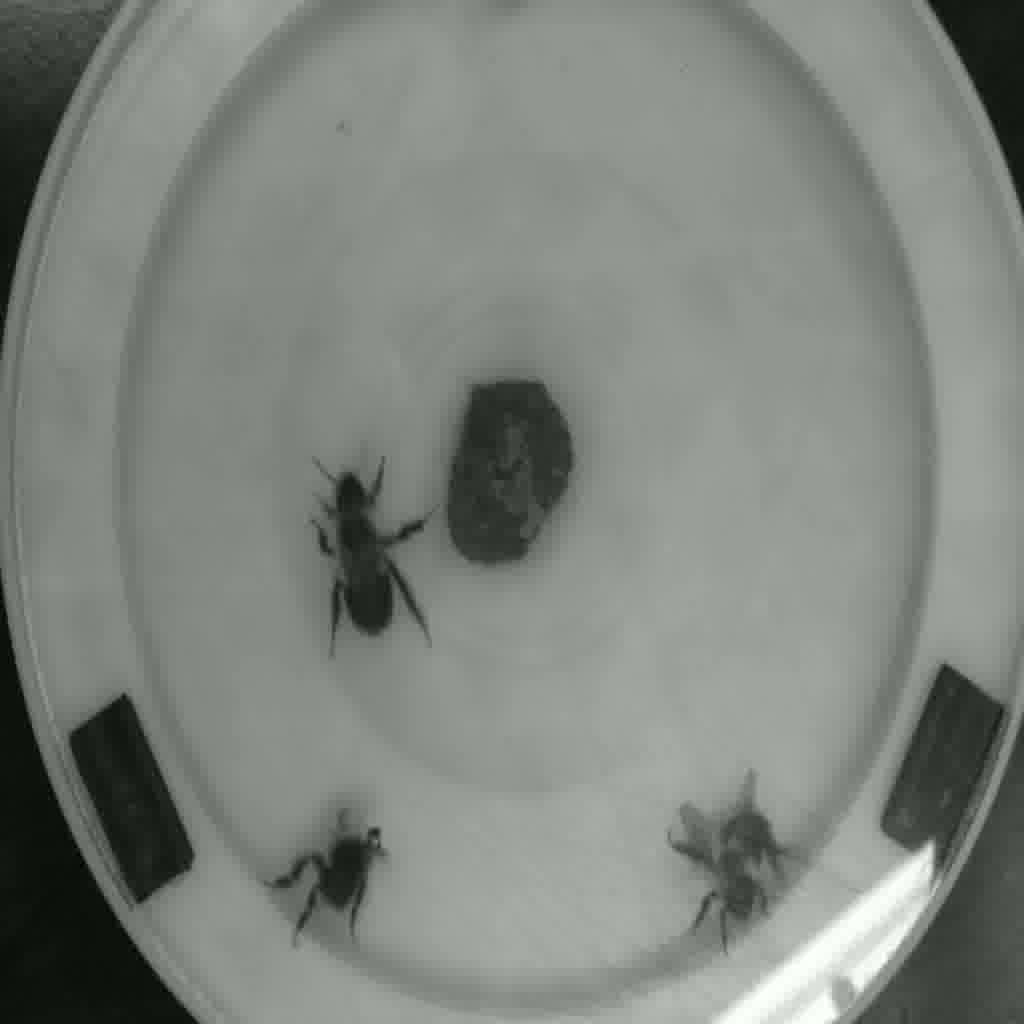bee: (269, 463, 460, 660), (656, 770, 823, 940), (262, 805, 411, 936)
